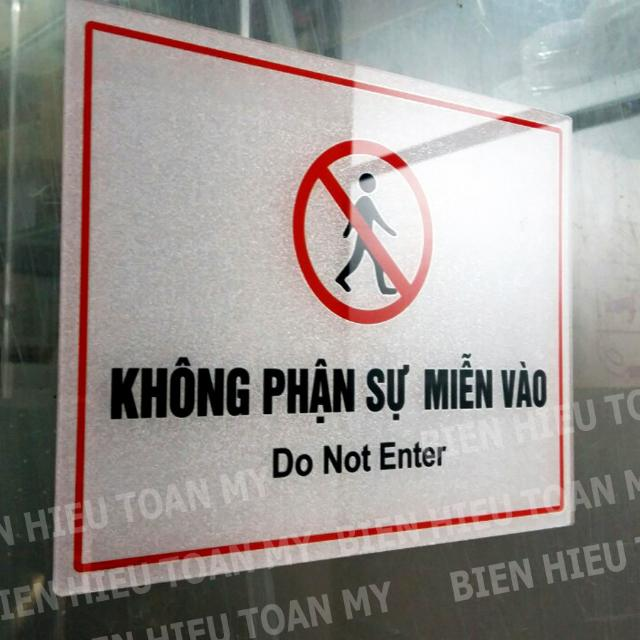khong phan su mien vao: (54, 1, 570, 590)
